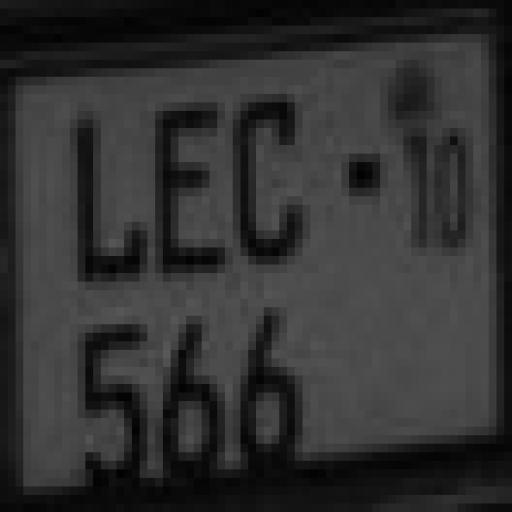5: (73, 323, 148, 473)
6: (228, 311, 306, 467), (154, 321, 223, 465)
C: (219, 100, 294, 273)
E: (145, 108, 220, 284)
L: (64, 119, 144, 286)
